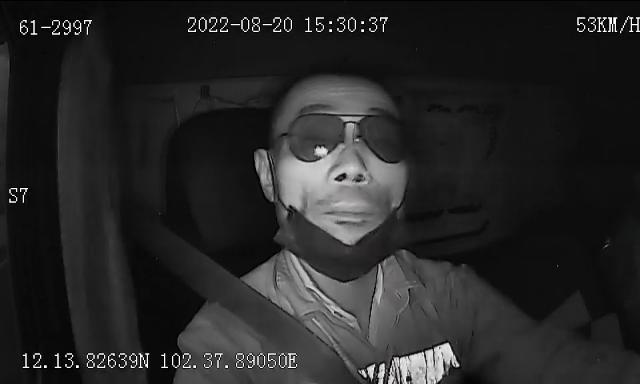SafeDriving: (296, 132, 343, 164)
Seatbelt: (157, 222, 365, 384)
